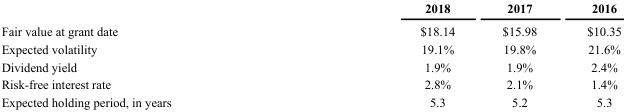table: (0, 1, 620, 108)
table column: (0, 1, 295, 108), (295, 1, 477, 108), (477, 1, 561, 108), (561, 1, 620, 108)
table column header: (0, 1, 620, 19)
table row: (0, 19, 620, 39), (0, 1, 620, 19), (0, 39, 620, 57), (0, 57, 620, 75), (0, 75, 620, 92), (0, 92, 620, 108)
